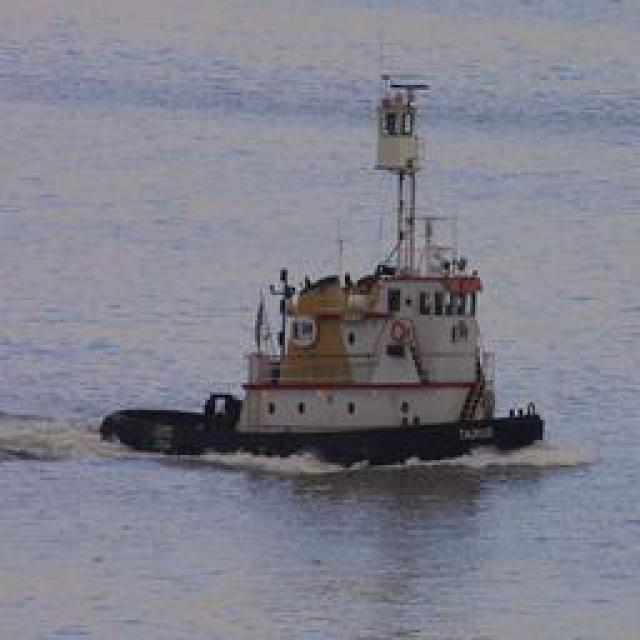Ship: (116, 67, 571, 465)
